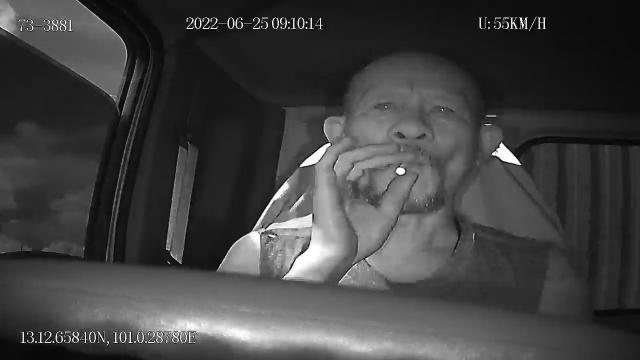SafeDriving: (422, 94, 462, 122), (366, 94, 403, 118)
Smoking: (397, 162, 408, 174)
